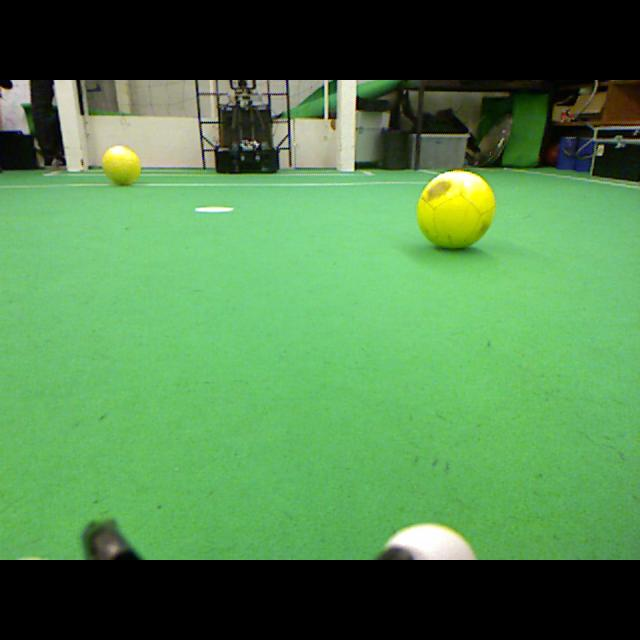ball: (416, 170, 497, 248), (101, 146, 142, 185)
goal: (53, 80, 83, 171), (341, 80, 358, 172)
robot: (215, 80, 280, 174)
